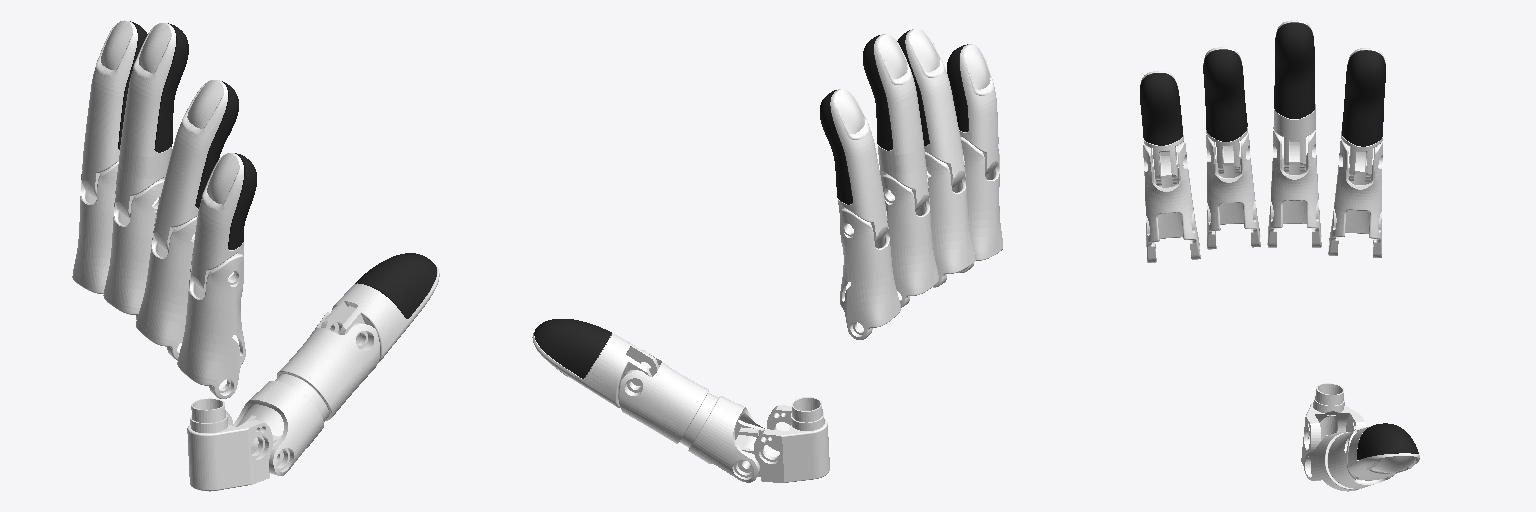
URDF robot description (DH116-R000-A1):
<?xml version="1.0" encoding="utf-8"?>
<!--
     This URDF was automatically created by SolidWorks to URDF Exporter! Originally created by Stephen Brawner (brawner@gmail.com)
  
         Commit Version: 1.6.0-4-g7f85cfe  Build Version: 1.6.7995.38578
  
         For more information, please see http://wiki.ros.org/sw_urdf_exporter
-->
<robot
  name="DH116-R000-A1">
  <!--
    Authoritative coupling description for this hand comes from the repository README formulas.
    
    Independent DOFs: finger11, finger12, finger21, finger31, finger41, finger51
    Passive follower joints:
      finger13 follows finger12: y = 0.0082x2 + 0.8808x + 0.2631
      finger22 follows finger21: y = 0.0035x2 + 0.9206x + 0.6344
      finger32 follows finger31: y = 0.0035x2 + 0.9206x + 0.6344
      finger42 follows finger41: y = 0.0035x2 + 0.9206x + 0.6344
      finger52 follows finger51: y = 0.0035x2 + 0.9206x + 0.6344
    
    Note: URDF mimic supports only linear coupling:
      q_follower = multiplier * q_driver + offset
    The mimic tags below preserve the original DH116 geometry, inertial values, joint
    origins, axes, and limits. They encode only the first-order coefficient and the
    constant term from the README formulas. Offsets are converted from degrees to radians.
  -->
  <link
    name="base_link">
    <inertial>
      <origin
        xyz="-0.0052741 0.002479 0.057207"
        rpy="0 0 0" />
      <mass
        value="0.10866" />
      <inertia
        ixx="8.6558E-05"
        ixy="1.592E-07"
        ixz="2.7057E-06"
        iyy="5.5287E-05"
        iyz="-4.058E-07"
        izz="4.1066E-05" />
    </inertial>
    <visual>
      <origin
        xyz="0 0 0"
        rpy="0 0 0" />
      <geometry>
        <mesh
          filename="../meshes/dh116_right/source/base_link.STL" />
      </geometry>
      <material
        name="">
        <color
          rgba="1 1 1 1" />
      </material>
    </visual>
    <collision>
      <origin
        xyz="0 0 0"
        rpy="0 0 0" />
      <geometry>
        <mesh
          filename="../meshes/dh116_right/source/base_link.STL" />
      </geometry>
    </collision>
  </link>
  <link
    name="finger11_link">
    <inertial>
      <origin
        xyz="0.0078225 0.0020462 -0.0025622"
        rpy="0 0 0" />
      <mass
        value="0.010254" />
      <inertia
        ixx="7.2142E-07"
        ixy="-1.1025E-07"
        ixz="1.8578E-07"
        iyy="1.1141E-06"
        iyz="4.8596E-08"
        izz="1.144E-06" />
    </inertial>
    <visual>
      <origin
        xyz="0 0 0"
        rpy="0 0 0" />
      <geometry>
        <mesh
          filename="../meshes/dh116_right/source/finger11_link.STL" />
      </geometry>
      <material
        name="">
        <color
          rgba="1 1 1 1" />
      </material>
    </visual>
    <collision>
      <origin
        xyz="0 0 0"
        rpy="0 0 0" />
      <geometry>
        <mesh
          filename="../meshes/dh116_right/source/finger11_link.STL" />
      </geometry>
    </collision>
  </link>
  <joint
    name="finger11"
    type="revolute">
    <origin
      xyz="0.018 0.021747 0.043279"
      rpy="-0.087266 0 0" />
    <parent
      link="base_link" />
    <child
      link="finger11_link" />
    <axis
      xyz="0 0 -1" />
    <limit
      lower="0"
      upper="1.047198"
      effort="0"
      velocity="0" />
  </joint>
  <link
    name="finger12_link">
    <inertial>
      <origin
        xyz="0.0014182 -1.2893E-06 0.024329"
        rpy="0 0 0" />
      <mass
        value="0.010145" />
      <inertia
        ixx="2.4795E-06"
        ixy="2.3633E-11"
        ixz="-9.1895E-08"
        iyy="2.2943E-06"
        iyz="4.4162E-11"
        izz="8.8906E-07" />
    </inertial>
    <visual>
      <origin
        xyz="0 0 0"
        rpy="0 0 0" />
      <geometry>
        <mesh
          filename="../meshes/dh116_right/source/finger12_link.STL" />
      </geometry>
      <material
        name="">
        <color
          rgba="1 1 1 1" />
      </material>
    </visual>
    <collision>
      <origin
        xyz="0 0 0"
        rpy="0 0 0" />
      <geometry>
        <mesh
          filename="../meshes/dh116_right/source/finger12_link.STL" />
      </geometry>
    </collision>
  </link>
  <joint
    name="finger12"
    type="revolute">
    <origin
      xyz="0.018876 0.0049375 -0.0056093"
      rpy="0 0.95149 0.25585" />
    <parent
      link="finger11_link" />
    <child
      link="finger12_link" />
    <axis
      xyz="0 -1 0" />
    <limit
      lower="0"
      upper="0.523599"
      effort="0"
      velocity="0" />
  </joint>
  <link
    name="finger13_link">
    <inertial>
      <origin
        xyz="0.0064864 -1.72E-06 0.014709"
        rpy="0 0 0" />
      <mass
        value="0.020548" />
      <inertia
        ixx="2.4642E-06"
        ixy="2.2654E-10"
        ixz="-1.276E-07"
        iyy="2.3555E-06"
        iyz="3.4328E-10"
        izz="8.7678E-07" />
    </inertial>
    <visual>
      <origin
        xyz="0 0 0"
        rpy="0 0 0" />
      <geometry>
        <mesh
          filename="../meshes/dh116_right/source/finger13_link.STL" />
      </geometry>
      <material
        name="">
        <color
          rgba="1 1 1 1" />
      </material>
    </visual>
    <collision>
      <origin
        xyz="0 0 0"
        rpy="0 0 0" />
      <geometry>
        <mesh
          filename="../meshes/dh116_right/source/finger13_link.STL" />
      </geometry>
    </collision>
  </link>
  <joint
    name="finger13"
    type="revolute">
    <origin
      xyz="0 0 0.045"
      rpy="0 0 0" />
    <parent
      link="finger12_link" />
    <child
      link="finger13_link" />
    <axis
      xyz="0 -1 0" />
    <limit
      lower="0.004592"
      upper="0.594583"
      effort="0"
      velocity="0" />
    <mimic
      joint="finger12"
      multiplier="0.8808"
      offset="0.004592" />
  </joint>
  <link
    name="finger14_link">
    <inertial>
      <origin
        xyz="0.0030983 8.624E-07 0.024752"
        rpy="0 0 0" />
      <mass
        value="0.00064654" />
      <inertia
        ixx="4.6206E-08"
        ixy="-1.7511E-11"
        ixz="-7.0078E-09"
        iyy="3.0972E-08"
        iyz="3.3703E-12"
        izz="3.328E-08" />
    </inertial>
    <visual>
      <origin
        xyz="0 0 0"
        rpy="0 0 0" />
      <geometry>
        <mesh
          filename="../meshes/dh116_right/source/finger14_link.STL" />
      </geometry>
      <material
        name="">
        <color
          rgba="0.2 0.2 0.2 1" />
      </material>
    </visual>
    <collision>
      <origin
        xyz="0 0 0"
        rpy="0 0 0" />
      <geometry>
        <mesh
          filename="../meshes/dh116_right/source/finger14_link.STL" />
      </geometry>
    </collision>
  </link>
  <joint
    name="finger14"
    type="fixed">
    <origin
      xyz="0 0 0"
      rpy="0 0 0" />
    <parent
      link="finger13_link" />
    <child
      link="finger14_link" />
    <axis
      xyz="0 0 0" />
    <limit
      lower="0"
      upper="1.396263"
      effort="0"
      velocity="0" />
  </joint>
  <link
    name="finger21_link">
    <inertial>
      <origin
        xyz="-0.0017978 3.2789E-07 0.018686"
        rpy="0 0 0" />
      <mass
        value="0.0067143" />
      <inertia
        ixx="1.1951E-06"
        ixy="6.7451E-12"
        ixz="-4.4967E-09"
        iyy="1.0688E-06"
        iyz="-2.4168E-12"
        izz="3.7304E-07" />
    </inertial>
    <visual>
      <origin
        xyz="0 0 0"
        rpy="0 0 0" />
      <geometry>
        <mesh
          filename="../meshes/dh116_right/source/finger21_link.STL" />
      </geometry>
      <material
        name="">
        <color
          rgba="1 1 1 1" />
      </material>
    </visual>
    <collision>
      <origin
        xyz="0 0 0"
        rpy="0 0 0" />
      <geometry>
        <mesh
          filename="../meshes/dh116_right/source/finger21_link.STL" />
      </geometry>
    </collision>
  </link>
  <joint
    name="finger21"
    type="revolute">
    <origin
      xyz="-0.011581 0.031971 0.10003"
      rpy="-0.052657 0.10625 -0.0055894" />
    <parent
      link="base_link" />
    <child
      link="finger21_link" />
    <axis
      xyz="0 1 0" />
    <limit
      lower="0"
      upper="1.396263"
      effort="0"
      velocity="0" />
  </joint>
  <link
    name="finger22_link">
    <inertial>
      <origin
        xyz="-0.0019337 7.2998E-07 0.02175"
        rpy="0 0 0" />
      <mass
        value="0.014789" />
      <inertia
        ixx="1.4665E-06"
        ixy="1.1416E-11"
        ixz="-1.6584E-07"
        iyy="1.4889E-06"
        iyz="-9.2753E-11"
        izz="3.5281E-07" />
    </inertial>
    <visual>
      <origin
        xyz="0 0 0"
        rpy="0 0 0" />
      <geometry>
        <mesh
          filename="../meshes/dh116_right/source/finger22_link.STL" />
      </geometry>
      <material
        name="">
        <color
          rgba="1 1 1 1" />
      </material>
    </visual>
    <collision>
      <origin
        xyz="0 0 0"
        rpy="0 0 0" />
      <geometry>
        <mesh
          filename="../meshes/dh116_right/source/finger22_link.STL" />
      </geometry>
    </collision>
  </link>
  <joint
    name="finger22"
    type="revolute">
    <origin
      xyz="0 0 0.035"
      rpy="0 0 0" />
    <parent
      link="finger21_link" />
    <child
      link="finger22_link" />
    <axis
      xyz="0 1 0" />
    <limit
      lower="0.011072"
      upper="1.687426"
      effort="0"
      velocity="0" />
    <mimic
      joint="finger21"
      multiplier="0.9206"
      offset="0.011072" />
  </joint>
  <link
    name="finger23_link">
    <inertial>
      <origin
        xyz="0.0027534 -5.1038E-07 0.027456"
        rpy="0 0 0" />
      <mass
        value="0.00083419" />
      <inertia
        ixx="1.0852E-07"
        ixy="-2.4081E-13"
        ixz="-9.2843E-09"
        iyy="9.6252E-08"
        iyz="-2.9524E-12"
        izz="2.404E-08" />
    </inertial>
    <visual>
      <origin
        xyz="0 0 0"
        rpy="0 0 0" />
      <geometry>
        <mesh
          filename="../meshes/dh116_right/source/finger23_link.STL" />
      </geometry>
      <material
        name="">
        <color
          rgba="0.2 0.2 0.2 1" />
      </material>
    </visual>
    <collision>
      <origin
        xyz="0 0 0"
        rpy="0 0 0" />
      <geometry>
        <mesh
          filename="../meshes/dh116_right/source/finger23_link.STL" />
      </geometry>
    </collision>
  </link>
  <joint
    name="finger23"
    type="fixed">
    <origin
      xyz="0 0 0"
      rpy="0 0 0" />
    <parent
      link="finger22_link" />
    <child
      link="finger23_link" />
    <axis
      xyz="0 0 0" />
    <limit
      lower="0.011072"
      upper="1.687426"
      effort="0"
      velocity="0" />
  </joint>
  <link
    name="finger31_link">
    <inertial>
      <origin
        xyz="-0.0017978 3.3269E-07 0.018686"
        rpy="0 0 0" />
      <mass
        value="0.0067141" />
      <inertia
        ixx="1.1951E-06"
        ixy="1.1431E-11"
        ixz="-4.4917E-09"
        iyy="1.0688E-06"
        iyz="8.2241E-12"
        izz="3.7303E-07" />
    </inertial>
    <visual>
      <origin
        xyz="0 0 0"
        rpy="0 0 0" />
      <geometry>
        <mesh
          filename="../meshes/dh116_right/source/finger31_link.STL" />
      </geometry>
      <material
        name="">
        <color
          rgba="1 1 1 1" />
      </material>
    </visual>
    <collision>
      <origin
        xyz="0 0 0"
        rpy="0 0 0" />
      <geometry>
        <mesh
          filename="../meshes/dh116_right/source/finger31_link.STL" />
      </geometry>
    </collision>
  </link>
  <joint
    name="finger31"
    type="revolute">
    <origin
      xyz="-0.013501 0.0105 0.10286"
      rpy="0 0.10214 0" />
    <parent
      link="base_link" />
    <child
      link="finger31_link" />
    <axis
      xyz="0 1 0" />
    <limit
      lower="0"
      upper="1.396263"
      effort="0"
      velocity="0" />
  </joint>
  <link
    name="finger32_link">
    <inertial>
      <origin
        xyz="-0.0021242 6.6141E-08 0.024943"
        rpy="0 0 0" />
      <mass
        value="0.017444" />
      <inertia
        ixx="4.1711E-06"
        ixy="1.8194E-11"
        ixz="-2.6488E-07"
        iyy="4.1927E-06"
        iyz="-1.6389E-11"
        izz="4.4322E-07" />
    </inertial>
    <visual>
      <origin
        xyz="0 0 0"
        rpy="0 0 0" />
      <geometry>
        <mesh
          filename="../meshes/dh116_right/source/finger32_link.STL" />
      </geometry>
      <material
        name="">
        <color
          rgba="1 1 1 1" />
      </material>
    </visual>
    <collision>
      <origin
        xyz="0 0 0"
        rpy="0 0 0" />
      <geometry>
        <mesh
          filename="../meshes/dh116_right/source/finger32_link.STL" />
      </geometry>
    </collision>
  </link>
  <joint
    name="finger32"
    type="revolute">
    <origin
      xyz="0 0 0.035"
      rpy="0 0 0" />
    <parent
      link="finger31_link" />
    <child
      link="finger32_link" />
    <axis
      xyz="0 1 0" />
    <limit
      lower="0.011072"
      upper="1.687426"
      effort="0"
      velocity="0" />
    <mimic
      joint="finger31"
      multiplier="0.9206"
      offset="0.011072" />
  </joint>
  <link
    name="finger33_link">
    <inertial>
      <origin
        xyz="0.0025776 -4.8031E-07 0.03447"
        rpy="0 0 0" />
      <mass
        value="0.00083416" />
      <inertia
        ixx="1.0861E-07"
        ixy="1.3942E-12"
        ixz="-8.8309E-09"
        iyy="9.6246E-08"
        iyz="-5.9916E-13"
        izz="2.3939E-08" />
    </inertial>
    <visual>
      <origin
        xyz="0 0 0"
        rpy="0 0 0" />
      <geometry>
        <mesh
          filename="../meshes/dh116_right/source/finger33_link.STL" />
      </geometry>
      <material
        name="">
        <color
          rgba="0.2 0.2 0.2 1" />
      </material>
    </visual>
    <collision>
      <origin
        xyz="0 0 0"
        rpy="0 0 0" />
      <geometry>
        <mesh
          filename="../meshes/dh116_right/source/finger33_link.STL" />
      </geometry>
    </collision>
  </link>
  <joint
    name="finger33"
    type="fixed">
    <origin
      xyz="0 0 0"
      rpy="0 0 0" />
    <parent
      link="finger32_link" />
    <child
      link="finger33_link" />
    <axis
      xyz="0 0 0" />
    <limit
      lower="0"
      upper="1.396263"
      effort="0"
      velocity="0" />
  </joint>
  <link
    name="finger41_link">
    <inertial>
      <origin
        xyz="-0.0017978 2.8835E-07 0.018686"
        rpy="0 0 0" />
      <mass
        value="0.006714" />
      <inertia
        ixx="1.1951E-06"
        ixy="1.5194E-11"
        ixz="-4.4902E-09"
        iyy="1.0688E-06"
        iyz="1.057E-11"
        izz="3.7303E-07" />
    </inertial>
    <visual>
      <origin
        xyz="0 0 0"
        rpy="0 0 0" />
      <geometry>
        <mesh
          filename="../meshes/dh116_right/source/finger41_link.STL" />
      </geometry>
      <material
        name="">
        <color
          rgba="1 1 1 1" />
      </material>
    </visual>
    <collision>
      <origin
        xyz="0 0 0"
        rpy="0 0 0" />
      <geometry>
        <mesh
          filename="../meshes/dh116_right/source/finger41_link.STL" />
      </geometry>
    </collision>
  </link>
  <joint
    name="finger41"
    type="revolute">
    <origin
      xyz="-0.015081 -0.010971 0.10183"
      rpy="0.052889 0.14148 0.0074648" />
    <parent
      link="base_link" />
    <child
      link="finger41_link" />
    <axis
      xyz="0 1 0" />
    <limit
      lower="0"
      upper="1.396263"
      effort="0"
      velocity="0" />
  </joint>
  <link
    name="finger42_link">
    <inertial>
      <origin
        xyz="-0.00099481 6.0006E-07 0.021813"
        rpy="0 0 0" />
      <mass
        value="0.014788" />
      <inertia
        ixx="1.4501E-06"
        ixy="2.324E-11"
        ixz="-2.1315E-07"
        iyy="1.4888E-06"
        iyz="-8.582E-11"
        izz="3.6915E-07" />
    </inertial>
    <visual>
      <origin
        xyz="0 0 0"
        rpy="0 0 0" />
      <geometry>
        <mesh
          filename="../meshes/dh116_right/source/finger42_link.STL" />
      </geometry>
      <material
        name="">
        <color
          rgba="1 1 1 1" />
      </material>
    </visual>
    <collision>
      <origin
        xyz="0 0 0"
        rpy="0 0 0" />
      <geometry>
        <mesh
          filename="../meshes/dh116_right/source/finger42_link.STL" />
      </geometry>
    </collision>
  </link>
  <joint
    name="finger42"
    type="revolute">
    <origin
      xyz="0 0 0.035"
      rpy="0 0 0" />
    <parent
      link="finger41_link" />
    <child
      link="finger42_link" />
    <axis
      xyz="0 1 0" />
    <limit
      lower="0.011072"
      upper="1.687426"
      effort="0"
      velocity="0" />
    <mimic
      joint="finger41"
      multiplier="0.9206"
      offset="0.011072" />
  </joint>
  <link
    name="finger43_link">
    <inertial>
      <origin
        xyz="0.0039336 -3.2576E-07 0.027311"
        rpy="0 0 0" />
      <mass
        value="0.0008342" />
      <inertia
        ixx="1.0756E-07"
        ixy="5.2726E-13"
        ixz="-1.2886E-08"
        iyy="9.6251E-08"
        iyz="-6.5627E-13"
        izz="2.4997E-08" />
    </inertial>
    <visual>
      <origin
        xyz="0 0 0"
        rpy="0 0 0" />
      <geometry>
        <mesh
          filename="../meshes/dh116_right/source/finger43_link.STL" />
      </geometry>
      <material
        name="">
        <color
          rgba="0.2 0.2 0.2 1" />
      </material>
    </visual>
    <collision>
      <origin
        xyz="0 0 0"
        rpy="0 0 0" />
      <geometry>
        <mesh
          filename="../meshes/dh116_right/source/finger43_link.STL" />
      </geometry>
    </collision>
  </link>
  <joint
    name="finger43"
    type="fixed">
    <origin
      xyz="0 0 0"
      rpy="0 0 0" />
    <parent
      link="finger42_link" />
    <child
      link="finger43_link" />
    <axis
      xyz="0 0 0" />
    <limit
      lower="0"
      upper="1.396263"
      effort="0"
      velocity="0" />
  </joint>
  <link
    name="finger51_link">
    <inertial>
      <origin
        xyz="-0.0017978 4.0336E-07 0.018686"
        rpy="0 0 0" />
      <mass
        value="0.0067142" />
      <inertia
        ixx="1.1951E-06"
        ixy="9.6674E-12"
        ixz="-4.4947E-09"
        iyy="1.0688E-06"
        iyz="3.902E-12"
        izz="3.7303E-07" />
    </inertial>
    <visual>
      <origin
        xyz="0 0 0"
        rpy="0 0 0" />
      <geometry>
        <mesh
          filename="../meshes/dh116_right/source/finger51_link.STL" />
      </geometry>
      <material
        name="">
        <color
          rgba="1 1 1 1" />
      </material>
    </visual>
    <collision>
      <origin
        xyz="0 0 0"
        rpy="0 0 0" />
      <geometry>
        <mesh
          filename="../meshes/dh116_right/source/finger51_link.STL" />
      </geometry>
    </collision>
  </link>
  <joint
    name="finger51"
    type="revolute">
    <origin
      xyz="-0.013081 -0.032156 0.097798"
      rpy="0.078754 0.073706 0.0058113" />
    <parent
      link="base_link" />
    <child
      link="finger51_link" />
    <axis
      xyz="0 1 0" />
    <limit
      lower="0"
      upper="1.396263"
      effort="0"
      velocity="0" />
  </joint>
  <link
    name="finger52_link">
    <inertial>
      <origin
        xyz="-0.0024432 3.1795E-07 0.016659"
        rpy="0 0 0" />
      <mass
        value="0.010445" />
      <inertia
        ixx="1.336E-06"
        ixy="2.6011E-11"
        ixz="-1.1818E-07"
        iyy="1.3478E-06"
        iyz="-5.5233E-12"
        izz="2.4659E-07" />
    </inertial>
    <visual>
      <origin
        xyz="0 0 0"
        rpy="0 0 0" />
      <geometry>
        <mesh
          filename="../meshes/dh116_right/source/finger52_link.STL" />
      </geometry>
      <material
        name="">
        <color
          rgba="1 1 1 1" />
      </material>
    </visual>
    <collision>
      <origin
        xyz="0 0 0"
        rpy="0 0 0" />
      <geometry>
        <mesh
          filename="../meshes/dh116_right/source/finger52_link.STL" />
      </geometry>
    </collision>
  </link>
  <joint
    name="finger52"
    type="revolute">
    <origin
      xyz="0 0 0.035"
      rpy="0 0 0" />
    <parent
      link="finger51_link" />
    <child
      link="finger52_link" />
    <axis
      xyz="0 1 0" />
    <limit
      lower="0.011072"
      upper="1.687426"
      effort="0"
      velocity="0" />
    <mimic
      joint="finger51"
      multiplier="0.9206"
      offset="0.011072" />
  </joint>
  <link
    name="finger53_link">
    <inertial>
      <origin
        xyz="0.0021833 1.5926E-06 0.02278"
        rpy="0 0 0" />
      <mass
        value="0.00059177" />
      <inertia
        ixx="4.5328E-08"
        ixy="2.1034E-12"
        ixz="-3.5665E-09"
        iyy="3.6598E-08"
        iyz="-2.539E-12"
        izz="1.5894E-08" />
    </inertial>
    <visual>
      <origin
        xyz="0 0 0"
        rpy="0 0 0" />
      <geometry>
        <mesh
          filename="../meshes/dh116_right/source/finger53_link.STL" />
      </geometry>
      <material
        name="">
        <color
          rgba="0.2 0.2 0.2 1" />
      </material>
    </visual>
    <collision>
      <origin
        xyz="0 0 0"
        rpy="0 0 0" />
      <geometry>
        <mesh
          filename="../meshes/dh116_right/source/finger53_link.STL" />
      </geometry>
    </collision>
  </link>
  <joint
    name="finger53"
    type="fixed">
    <origin
      xyz="0 0 0"
      rpy="0 0 0" />
    <parent
      link="finger52_link" />
    <child
      link="finger53_link" />
    <axis
      xyz="0 0 0" />
    <limit
      lower="0"
      upper="1.57"
      effort="0"
      velocity="0" />
  </joint>
</robot>

--- What the picture shows (computed from the rendered views, not written in the file) ---
The picture shows the robot from 3 angles, left to right: view 1: azimuth 30°, elevation 25°; view 2: azimuth 150°, elevation 25°; view 3: azimuth 270°, elevation 25°; orthographic projection.
Model DH116-R000-A1 with 17 links and 16 joints (11 revolute, 5 fixed), rooted at base_link, posed all joints at 0 but 5 set to mid-range because 0 is outside their limits (finger13 = 0.0046, finger22 = 0.0111, finger32 = 0.0111, finger42 = 0.0111, finger52 = 0.0111).
Visible links, largest first — view 1: finger12_link, finger51_link, finger32_link, finger11_link, finger42_link, finger22_link, finger41_link, finger31_link, finger52_link, finger21_link, finger13_link, finger14_link (+3 smaller); view 2: finger12_link, finger11_link, finger21_link, finger32_link, finger31_link, finger22_link, finger42_link, finger41_link, finger52_link, finger51_link, finger13_link, finger14_link (+3 smaller); view 3: finger51_link, finger31_link, finger21_link, finger41_link, finger33_link, finger23_link, finger43_link, finger53_link, finger11_link, finger12_link, finger13_link, finger32_link (+4 smaller).
Link boxes in pixels (<box>): finger12_link: <box>233,312,379,475</box>; finger51_link: <box>177,253,245,398</box>; finger32_link: <box>115,23,175,219</box>; finger11_link: <box>187,398,283,491</box>; finger42_link: <box>154,80,227,251</box>; finger22_link: <box>82,20,137,198</box>; finger41_link: <box>136,213,197,360</box>; finger31_link: <box>103,179,164,319</box>; finger52_link: <box>191,153,243,291</box>; finger21_link: <box>72,161,118,302</box>; finger13_link: <box>321,266,439,362</box>; finger14_link: <box>355,253,436,318</box>; finger12_link: <box>618,350,766,482</box>; finger11_link: <box>736,397,829,482</box>; finger21_link: <box>840,208,900,339</box>; finger32_link: <box>874,34,928,210</box>; finger31_link: <box>881,174,938,307</box>; finger22_link: <box>830,89,887,242</box>; finger42_link: <box>905,29,964,187</box>; finger41_link: <box>925,152,975,287</box>; finger52_link: <box>959,44,998,175</box>; finger51_link: <box>960,137,1002,272</box>; finger13_link: <box>532,331,658,407</box>; finger14_link: <box>534,319,611,378</box>; finger51_link: <box>1143,142,1200,262</box>; finger31_link: <box>1267,131,1321,247</box>; finger21_link: <box>1328,140,1382,257</box>; finger41_link: <box>1206,133,1260,249</box>; finger33_link: <box>1274,23,1314,118</box>; finger23_link: <box>1342,50,1385,146</box>; finger43_link: <box>1203,50,1247,141</box>; finger53_link: <box>1140,73,1182,145</box>; finger11_link: <box>1301,383,1365,465</box>; finger12_link: <box>1304,426,1393,491</box>; finger13_link: <box>1348,426,1419,479</box>; finger32_link: <box>1273,20,1315,171</box>.
Size in the robot's own frame: 0.1309 by 0.0986 by 0.1599 metres.
16 mesh visuals loaded from 17 distinct referenced files (16 binary STL); not drawn: 1 (reference not matched to a file when rendering).
